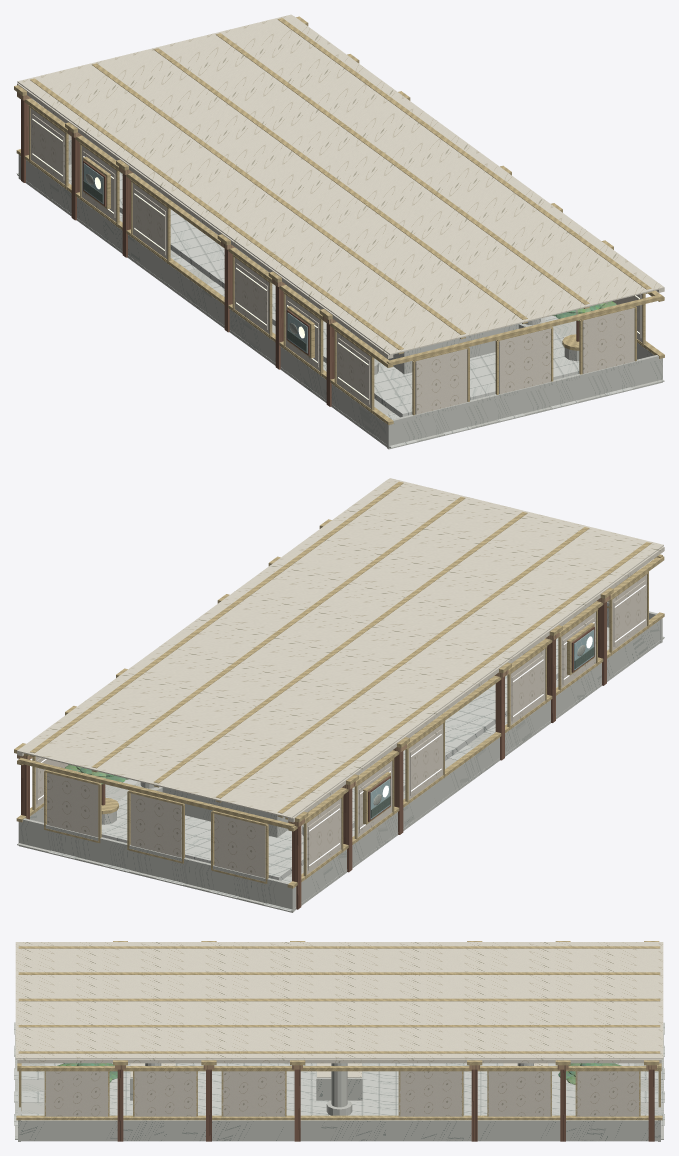
File: bath.gltf
3 views of the same model, one above another, from view 1: azimuth 30°, elevation 25°; view 2: azimuth 150°, elevation 25°; view 3: azimuth 270°, elevation 25° (orthographic). The views are drawn at different scales.
Visible parts, largest first — view 1: ivory, gold, marble, cream, tile, oakdark, sky; view 2: ivory, gold, marble, cream, tile, oakdark, sky; view 3: ivory, gold, cream, marble, tile, oakdark, oak.
Boxes of the visible parts, x1,y1,x2,y2 form: ivory: [17, 14, 664, 358]; gold: [14, 16, 664, 424]; marble: [17, 137, 664, 449]; cream: [30, 108, 642, 414]; tile: [16, 172, 632, 447]; oakdark: [21, 99, 579, 406]; sky: [83, 163, 307, 353]; ivory: [17, 478, 664, 822]; gold: [14, 481, 664, 888]; marble: [17, 601, 664, 912]; cream: [35, 574, 646, 877]; tile: [48, 636, 664, 911]; oakdark: [21, 602, 606, 909]; sky: [370, 629, 594, 819]; ivory: [15, 942, 663, 1077]; gold: [16, 941, 662, 1120]; cream: [45, 1071, 640, 1116]; marble: [15, 1034, 663, 1141]; tile: [14, 1022, 664, 1125]; oakdark: [117, 1069, 654, 1141]; oak: [115, 1065, 656, 1069].
Bounding box in the file's own units: 9.28 × 2.99 × 20.96.
Materials: 15 (15 with a texture image).
